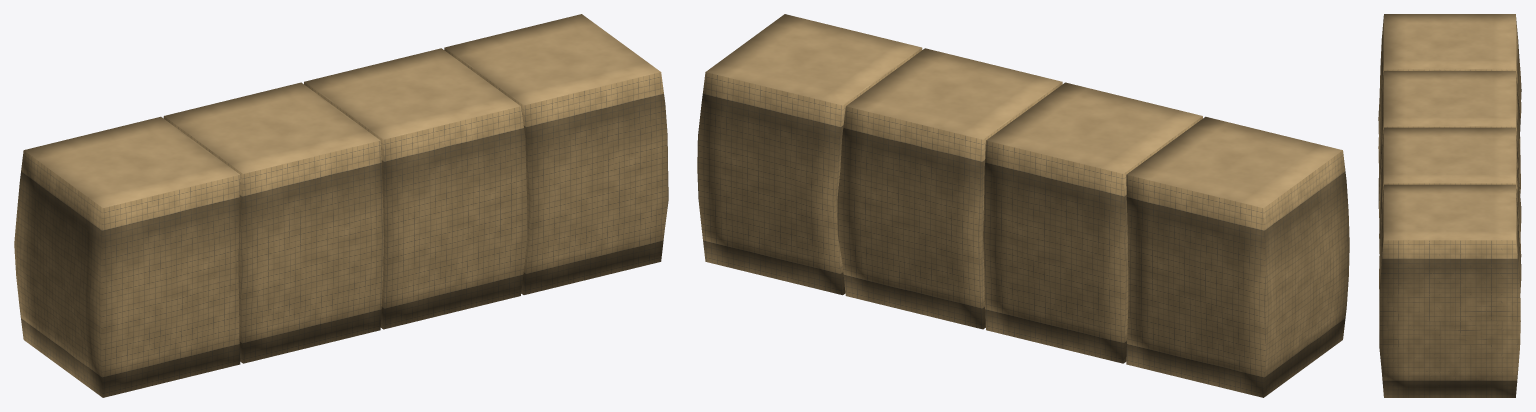
File: hesco_row.glb
3 views of the same model, side by side, from view 1: azimuth 30°, elevation 25°; view 2: azimuth 150°, elevation 25°; view 3: azimuth 270°, elevation 25° (orthographic). The views are drawn at different scales.
Parts seen in each view (by area): view 1: HescoRow; view 2: HescoRow; view 3: HescoRow.
Boxes of the visible parts, x1,y1,x2,y2 form: HescoRow: (14, 14, 668, 397); HescoRow: (697, 14, 1349, 397); HescoRow: (1378, 14, 1521, 397).
Size of the model in its own units: 4.3 by 1.37 by 1.13.
Materials: 2 (2 with a texture image).
